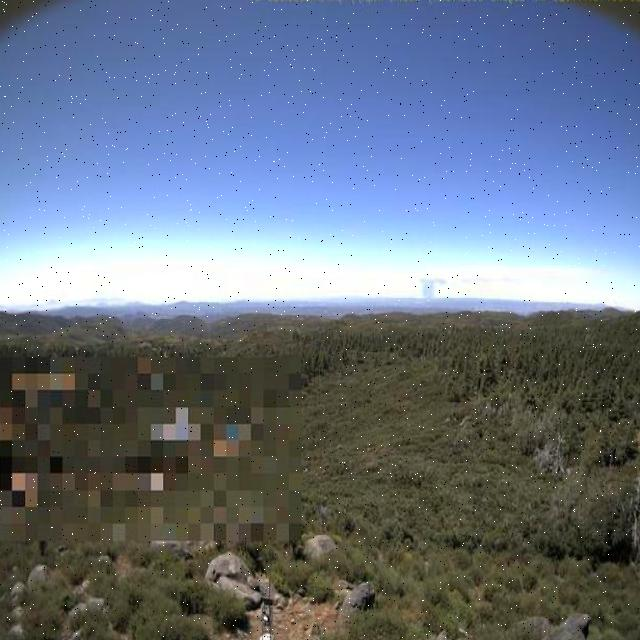smoke: (415, 274, 451, 302)
